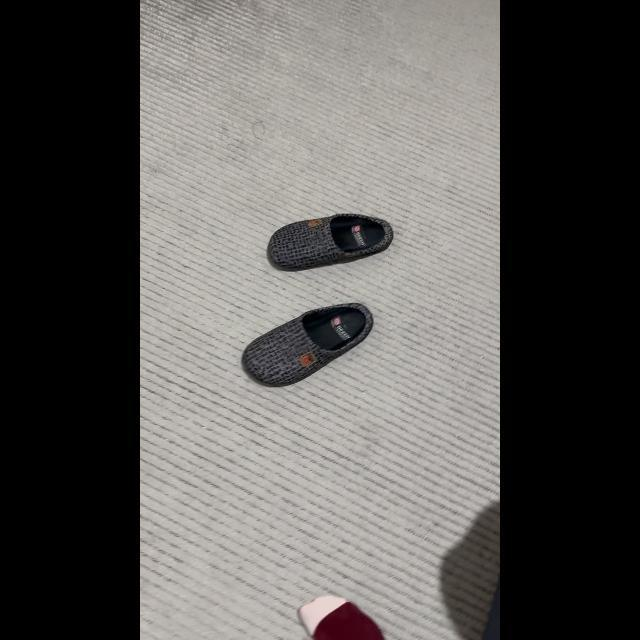slipper: (233, 297, 381, 389), (253, 210, 399, 274)
